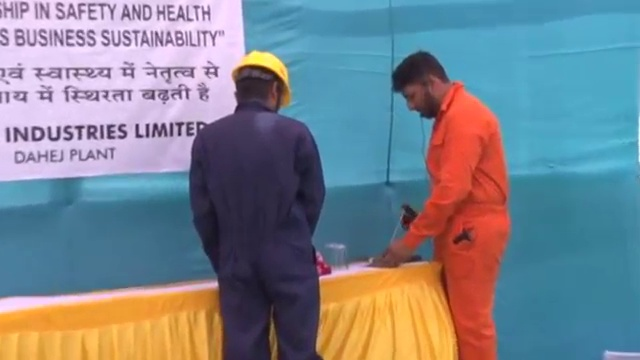helmet: (229, 50, 291, 106)
helmet_off: (389, 48, 453, 122)
helmet_on: (226, 50, 293, 115)
person: (185, 50, 328, 360), (385, 48, 512, 360)
